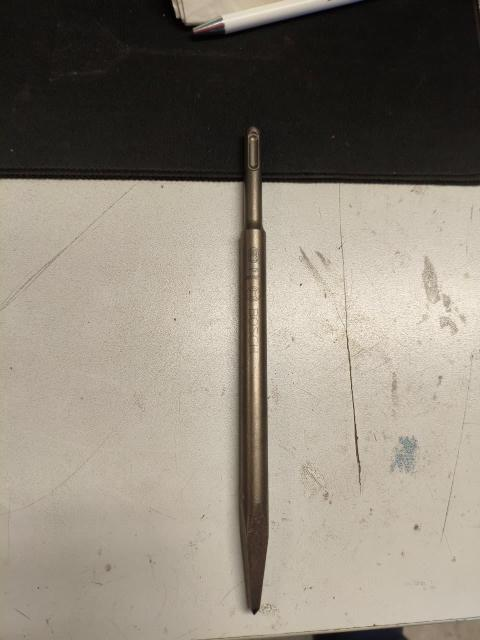Metal: (235, 122, 280, 620)
